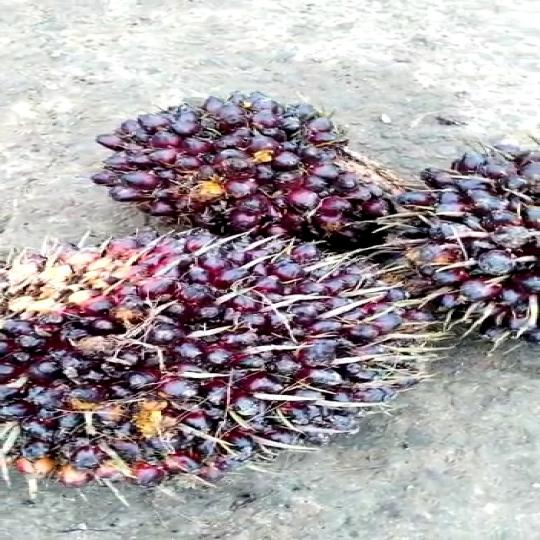kurang masak: (0, 239, 485, 493), (93, 81, 408, 238)
